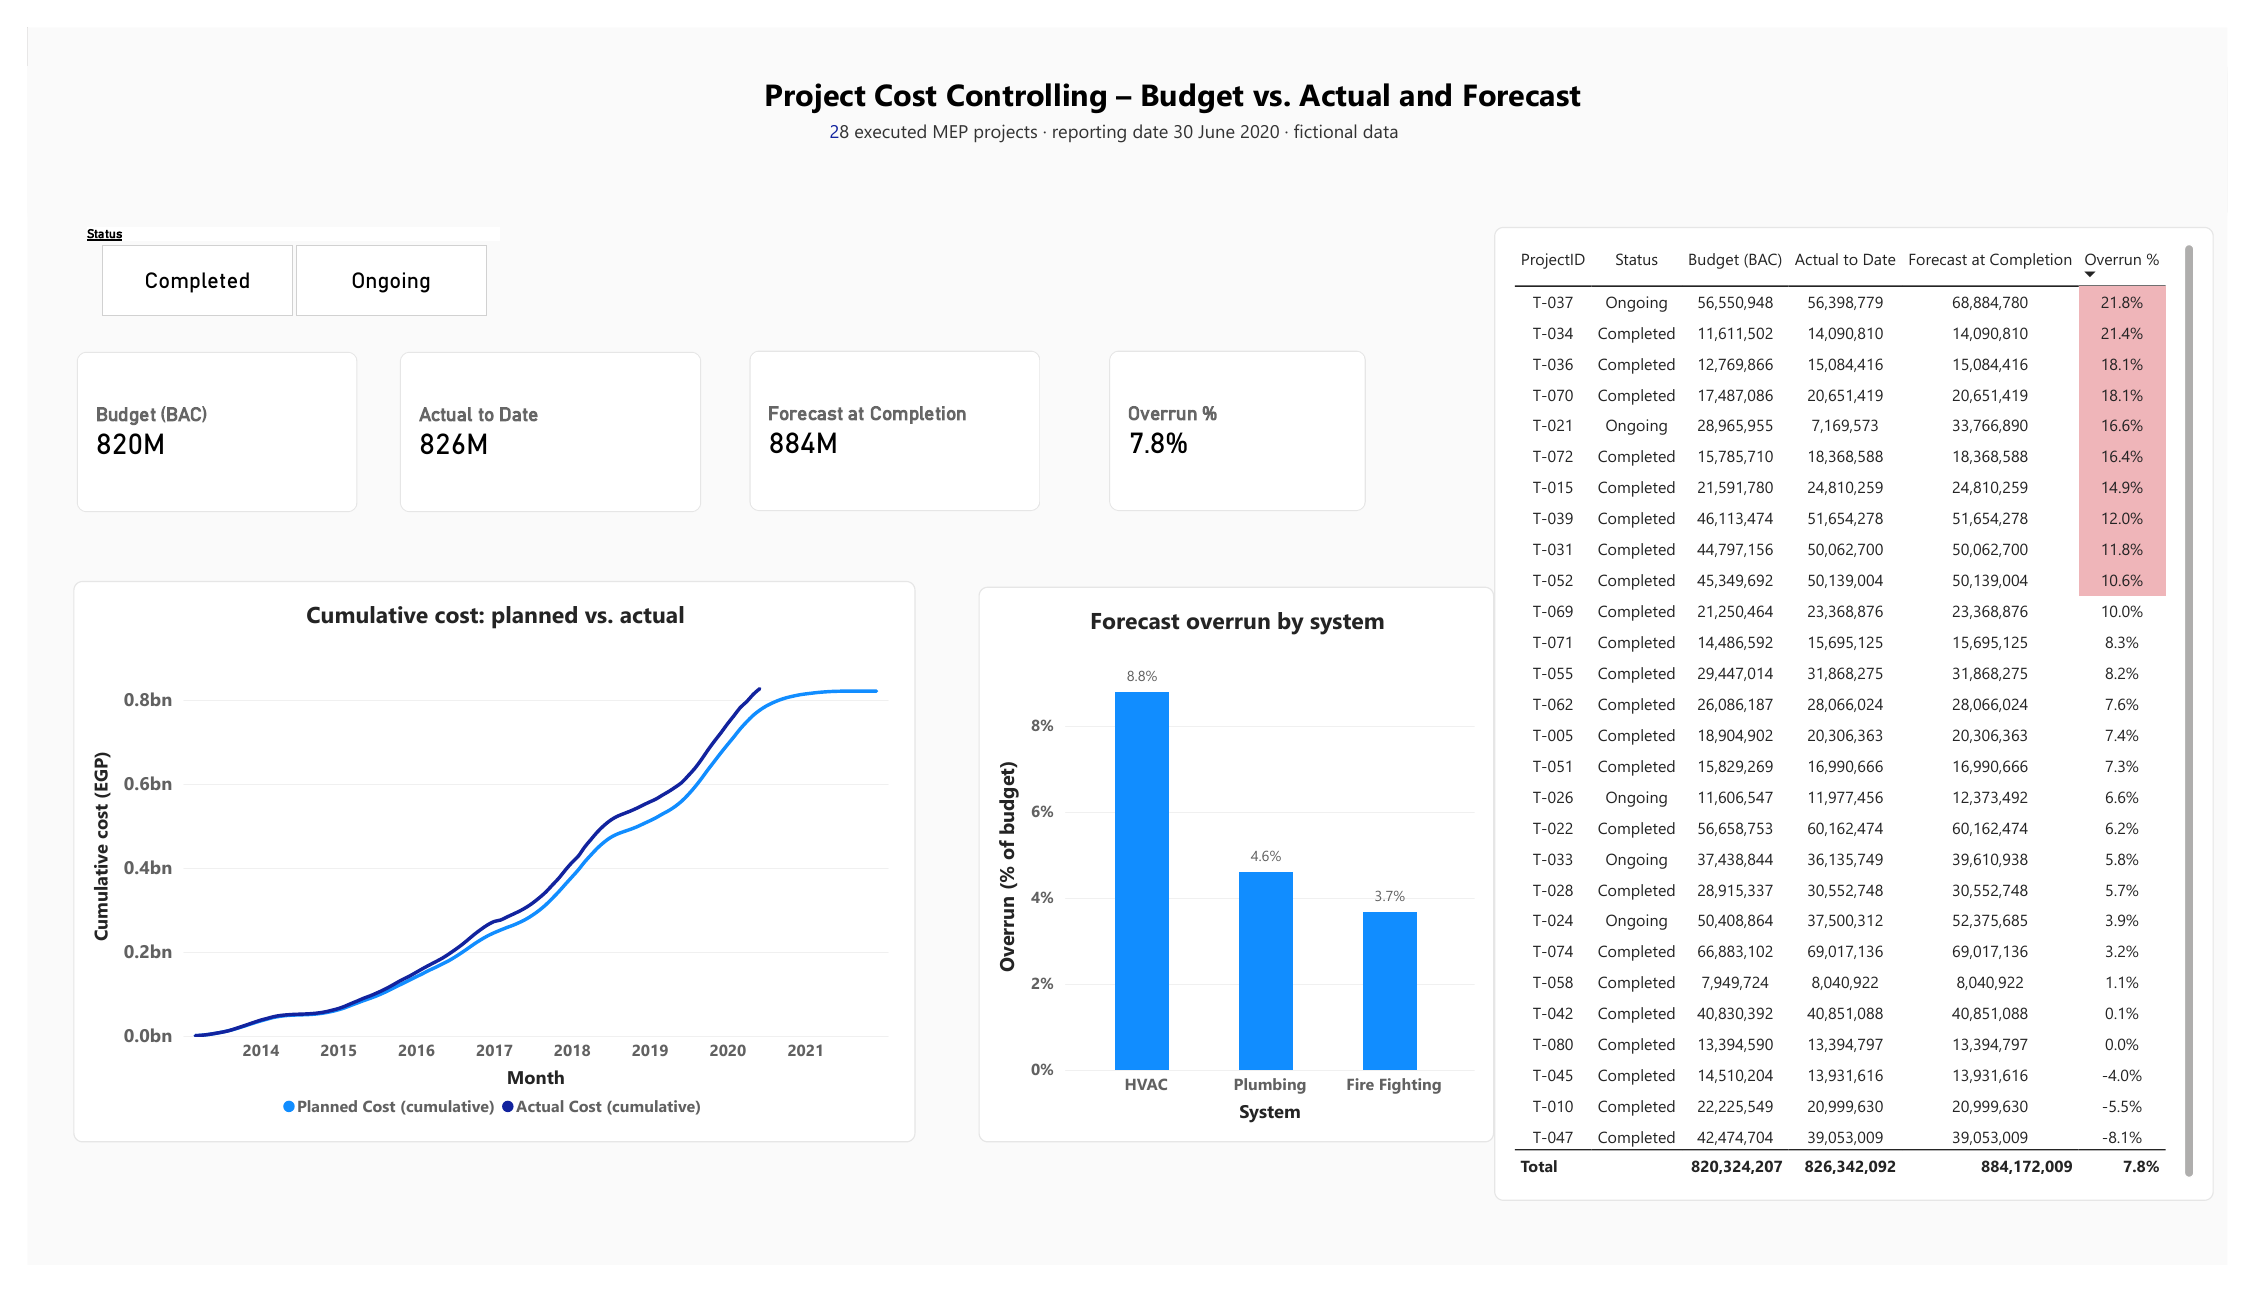

This screenshot's page, from the dashboard's own definition file:
{"tool":"powerbi","page":{"name":"Project Cost Controlling","canvas":[1920,1080],"ordinal":1},"visuals":[{"type":"cardVisual","fields":{"Data":["ProjectStatus.Budget (BAC)"]},"box":[42.5,282.5,245,140],"z":0},{"type":"cardVisual","fields":{"Data":["ProjectStatus.Actual to Date"]},"box":[325,282.5,262.5,140],"z":1000},{"type":"cardVisual","fields":{"Data":["ProjectStatus.Forecast at Completion"]},"box":[630,282,254,140],"z":2000},{"type":"cardVisual","fields":{"Data":["ProjectStatus.Overrun %"]},"box":[944,282,224,140],"z":3000},{"type":"lineChart","title":"Cumulative cost: planned vs. actual","fields":{"Category":["Calendar.MonthStart"],"Y":["project_costs.Planned Cost (cumulative)","project_costs.Actual Cost (cumulative)"]},"box":[40,482.5,735,490],"z":4000},{"type":"clusteredColumnChart","title":"Forecast overrun by system","fields":{"Category":["ProjectStatus.System"],"Y":["ProjectStatus.Overrun %"]},"box":[830,487.5,450,485],"z":5000},{"type":"tableEx","fields":{"Values":["ProjectStatus.ProjectID","ProjectStatus.Status","ProjectStatus.Budget (BAC)","ProjectStatus.Actual to Date","ProjectStatus.Forecast at Completion","ProjectStatus.Overrun %"]},"box":[1280,174,628.3,850],"z":6000},{"type":"slicer","title":"Status","fields":{"Values":["ProjectStatus.Status"]},"box":[44,174,376,80],"z":7000},{"type":"textbox","box":[700,80,698,56],"z":9000},{"type":"textbox","box":[400,40,1200,56],"z":11000}]}

Visuals, with their boxes in screenshot pixels (x1, y1, x2, y2), scaled from the page's 1920x1080 canvas onto the 2255x1293 screenshot:
cardVisual - ProjectStatus.Budget (BAC): <bbox>50, 338, 338, 506</bbox>
cardVisual - ProjectStatus.Actual to Date: <bbox>382, 338, 690, 506</bbox>
cardVisual - ProjectStatus.Forecast at Completion: <bbox>740, 338, 1038, 505</bbox>
cardVisual - ProjectStatus.Overrun %: <bbox>1109, 338, 1372, 505</bbox>
"Cumulative cost: planned vs. actual" lineChart: <bbox>47, 578, 910, 1164</bbox>
"Forecast overrun by system" clusteredColumnChart: <bbox>975, 584, 1503, 1164</bbox>
tableEx - ProjectStatus.ProjectID x ProjectStatus.Status: <bbox>1503, 208, 2241, 1226</bbox>
"Status" slicer: <bbox>52, 208, 493, 304</bbox>
textbox: <bbox>822, 96, 1642, 163</bbox>
textbox: <bbox>470, 48, 1879, 115</bbox>
